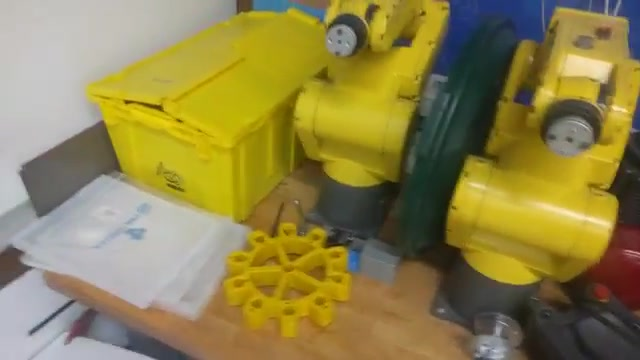gear: (221, 227, 352, 336)
